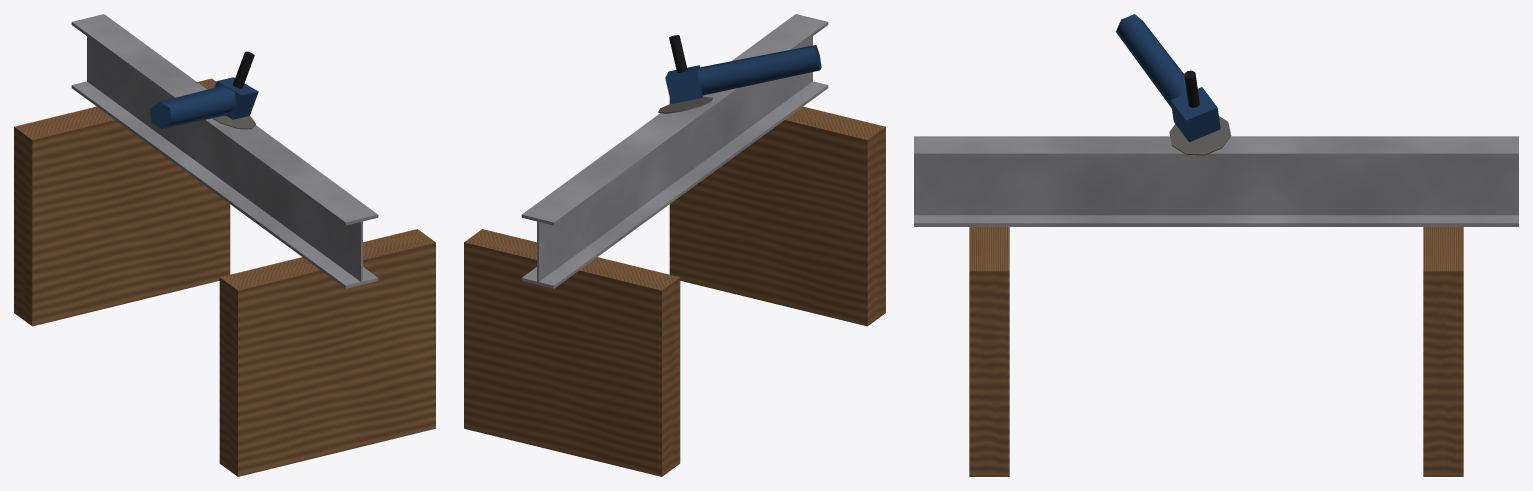
The model's file is grinder_L0.glb.
The picture shows the model from 3 angles, left to right: view 1: azimuth 30°, elevation 25°; view 2: azimuth 150°, elevation 25°; view 3: azimuth 270°, elevation 25°; orthographic projection. The views are drawn at different scales.
Visible parts, largest first — view 1: trestle (×2), beam, motor, head; view 2: trestle (×2), beam, motor, head, disc; view 3: beam, trestle (×2), motor, head, disc.
Boxes of the visible parts, bbox=[...] form: trestle (×2): bbox=[14, 78, 435, 476]; beam: bbox=[71, 14, 378, 288]; motor: bbox=[150, 85, 236, 128]; head: bbox=[214, 77, 258, 119]; trestle (×2): bbox=[464, 98, 885, 476]; beam: bbox=[521, 14, 828, 288]; motor: bbox=[697, 45, 821, 95]; head: bbox=[665, 65, 703, 103]; disc: bbox=[658, 96, 712, 113]; beam: bbox=[914, 136, 1518, 226]; trestle (×2): bbox=[969, 227, 1463, 476]; motor: bbox=[1116, 14, 1186, 108]; head: bbox=[1170, 87, 1220, 142]; disc: bbox=[1169, 116, 1231, 155].
Bounding box in the file's own units: 0.5263 × 0.7829 × 1.2.
5 materials, 2 textured.
